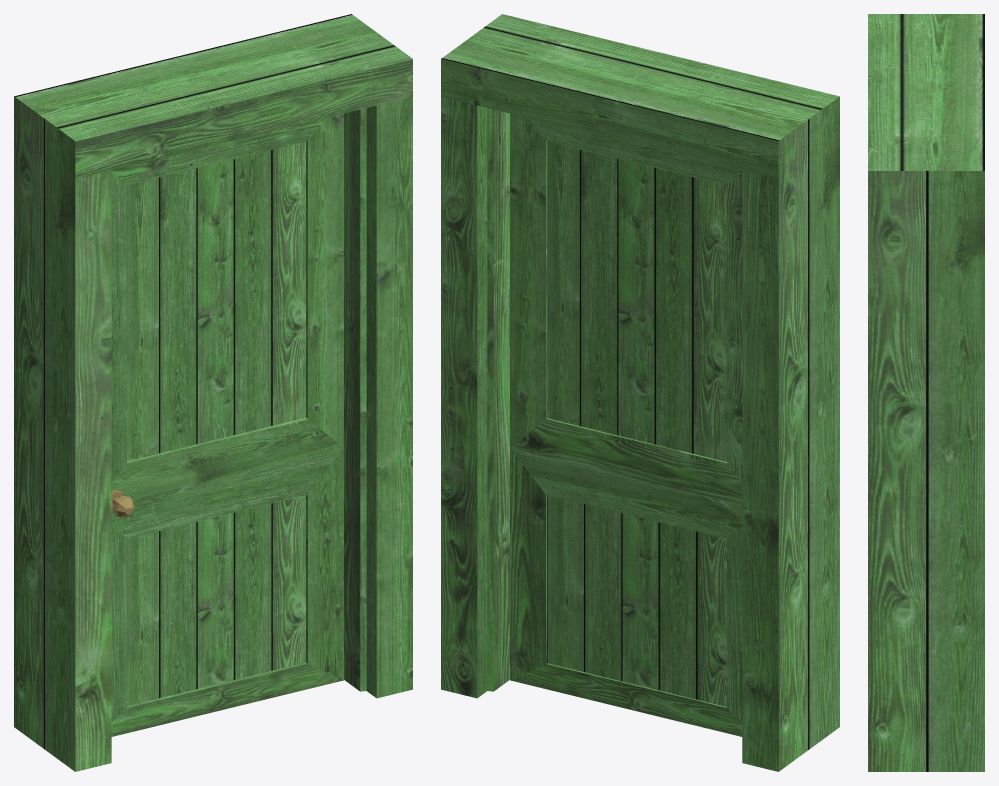
Rendered from door.fbx.
3 views of the same model, side by side, from view 1: azimuth 30°, elevation 25°; view 2: azimuth 150°, elevation 25°; view 3: azimuth 270°, elevation 25° (orthographic). The views are drawn at different scales.
Parts seen in each view (by area): view 1: proem, door; view 2: proem, door; view 3: proem.
Boxes of the visible parts, box(x1,y1,x2,y2) form: proem: box(14, 14, 412, 771); door: box(111, 113, 343, 736); proem: box(441, 14, 839, 771); door: box(510, 113, 742, 736); proem: box(868, 14, 984, 771).
Size of the model in its own units: 140 by 250 by 44.
